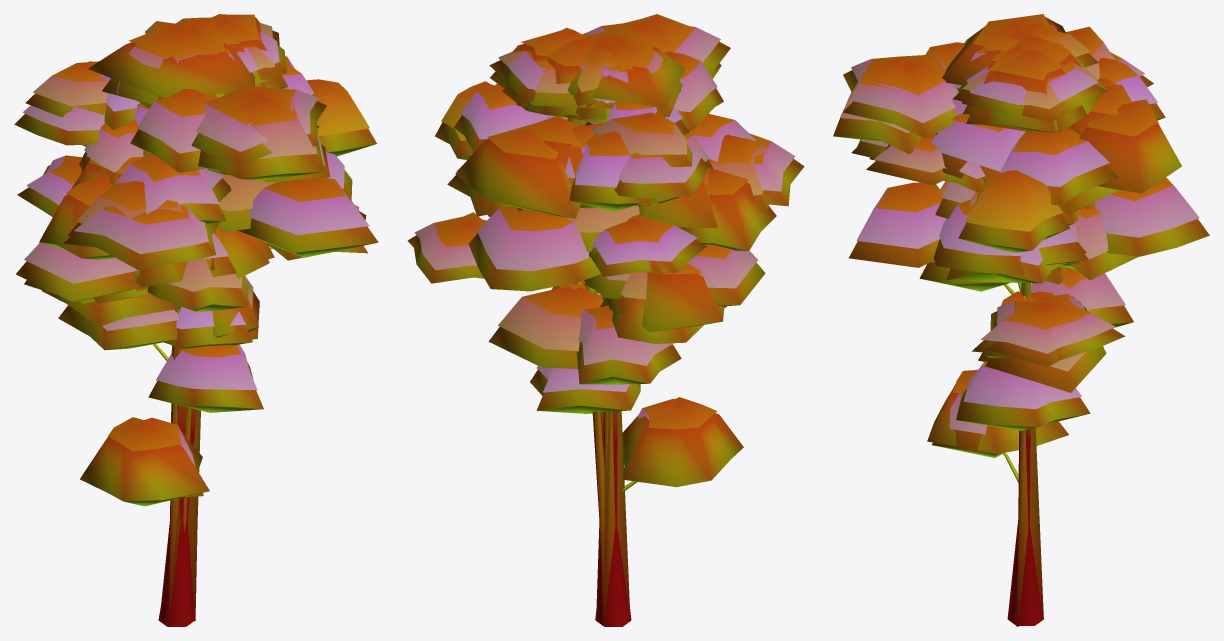
The model's file is pine.glb.
3 renders of one model, left to right at view 1: azimuth 30°, elevation 25°; view 2: azimuth 150°, elevation 25°; view 3: azimuth 270°, elevation 25°, orthographic. The views are drawn at different scales.
Visible parts, largest first — view 1: v3, v1, v9, v1_far, v0, v9_far, v7_far, v7, v6, v4, v5, v6_far (+5 smaller); view 2: v9, v3, v9_far, v6, v1, v0, v7, v1_far, v4_far, v7_far, v6_far, v5_far (+5 smaller); view 3: v9, v3, v9_far, v6, v5, v6_far, v1, v7, v0, v0_far, v1_far, v5_far (+4 smaller).
Boxes of the visible parts, bbox=[...] form: v3: bbox=[58, 258, 263, 506]; v1: bbox=[14, 21, 326, 269]; v9: bbox=[67, 17, 376, 303]; v1_far: bbox=[25, 23, 254, 217]; v0: bbox=[39, 26, 217, 626]; v9_far: bbox=[24, 26, 378, 617]; v7_far: bbox=[16, 29, 276, 301]; v7: bbox=[99, 28, 313, 223]; v6: bbox=[17, 32, 367, 626]; v4: bbox=[42, 27, 274, 349]; v5: bbox=[136, 14, 352, 350]; v6_far: bbox=[54, 23, 366, 624]; v9: bbox=[435, 14, 768, 314]; v3: bbox=[530, 305, 743, 491]; v9_far: bbox=[455, 37, 724, 625]; v6: bbox=[414, 52, 706, 626]; v1: bbox=[573, 16, 804, 206]; v0: bbox=[564, 42, 776, 626]; v7: bbox=[454, 37, 756, 251]; v1_far: bbox=[545, 28, 759, 166]; v4_far: bbox=[488, 45, 629, 369]; v7_far: bbox=[565, 37, 765, 306]; v6_far: bbox=[407, 50, 665, 624]; v5_far: bbox=[522, 27, 604, 621]; v9: bbox=[833, 36, 1209, 285]; v3: bbox=[919, 261, 1133, 482]; v9_far: bbox=[849, 32, 1181, 267]; v6: bbox=[943, 65, 1125, 612]; v5: bbox=[888, 50, 1121, 300]; v6_far: bbox=[866, 62, 1107, 602]; v1: bbox=[843, 23, 1153, 158]; v7: bbox=[884, 23, 1118, 205]; v0: bbox=[925, 27, 1139, 625]; v0_far: bbox=[931, 22, 1080, 617]; v1_far: bbox=[942, 14, 1115, 85]; v5_far: bbox=[967, 46, 1132, 626].
Bounding box in the file's own units: 7.63 × 12.48 × 7.14.
